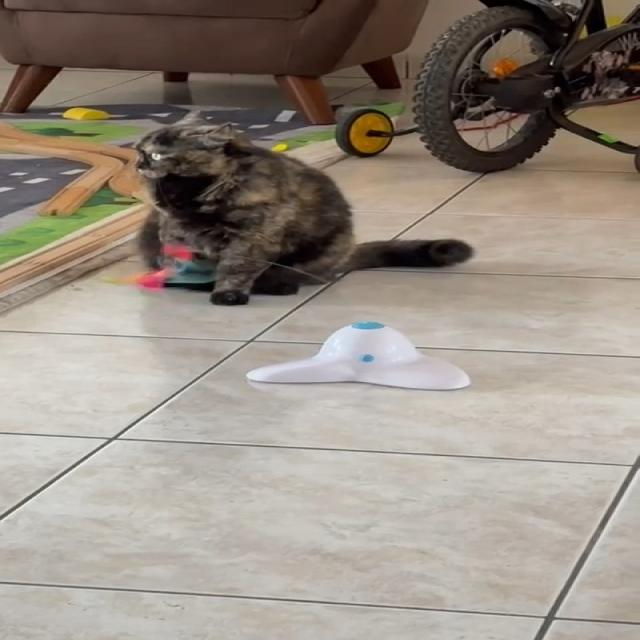authorized: (132, 108, 475, 306)
